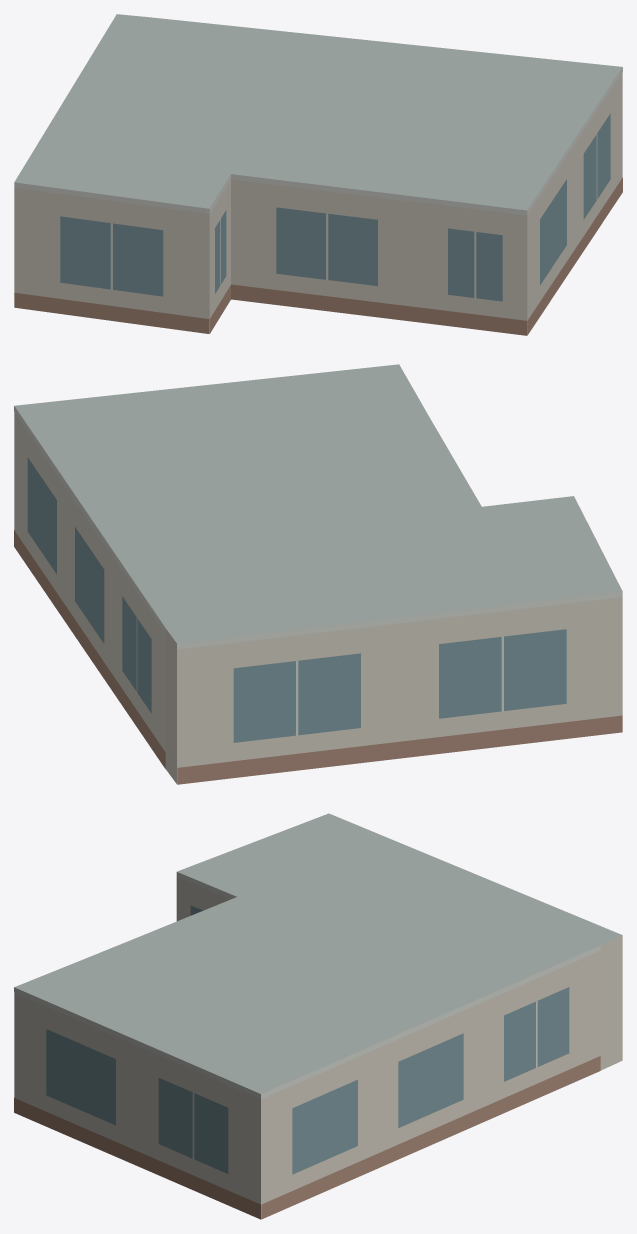
Rendered from survey-upis-32752097.glb.
The picture shows the model from 3 angles, top to bottom: view 1: azimuth 30°, elevation 25°; view 2: azimuth 150°, elevation 25°; view 3: azimuth 270°, elevation 25°; orthographic projection. The views are drawn at different scales.
Visible parts, largest first — view 1: survey-upis-32752097.tmp; view 2: survey-upis-32752097.tmp; view 3: survey-upis-32752097.tmp.
Part boxes in pixels (left/top/right/bottom): survey-upis-32752097.tmp: left=14, top=14, right=622, bottom=335; survey-upis-32752097.tmp: left=14, top=364, right=622, bottom=784; survey-upis-32752097.tmp: left=14, top=813, right=622, bottom=1219.
Size of the model in its own units: 14.66 by 3.05 by 13.42.
